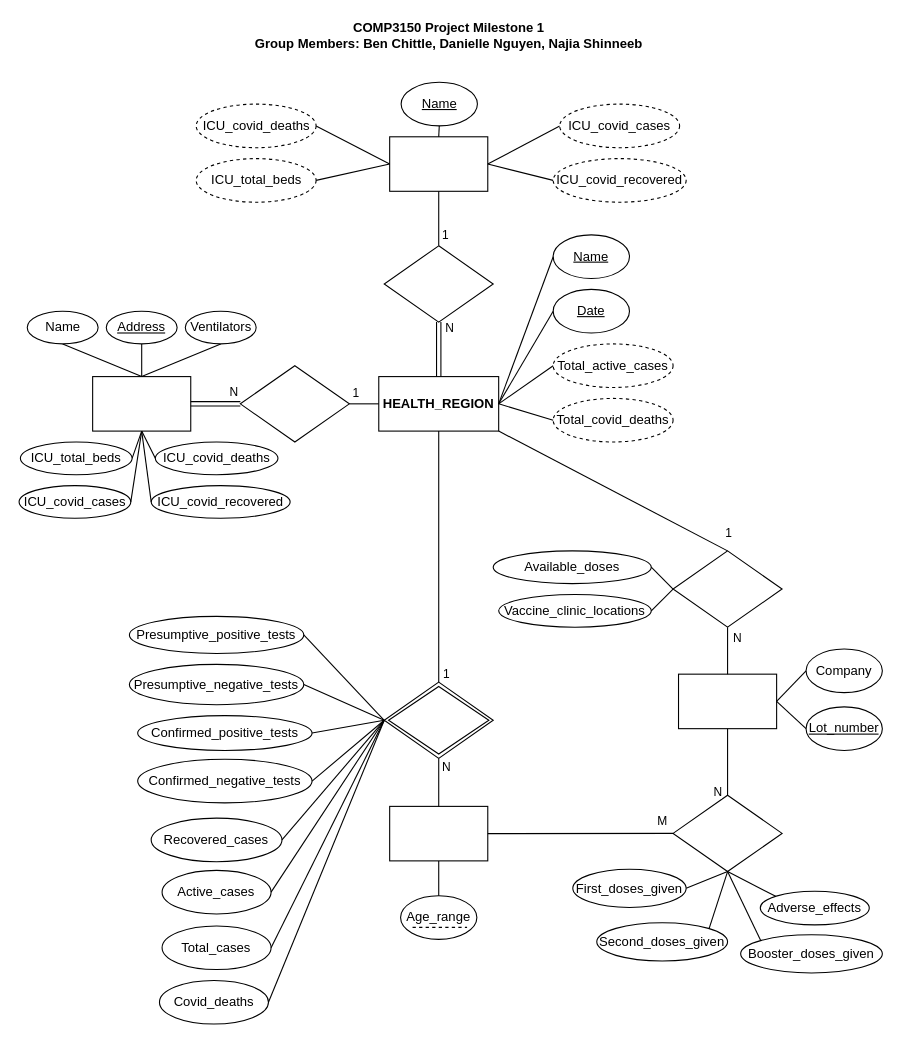
This 901x1043 diagram has some shape labels left out. The shapes that lost their labels are listed below. From the top down, each one's centre as x and y in pixels, then its label:
the point at 438,163: PROVINCE
the point at 438,283: HAS_A
the point at 141,403: HOSPITAL
the point at 294,403: REPORTS_TO
the point at 727,588: DISTRIBUTES
the point at 438,719: CLASSIFIES
the point at 727,701: VACCINE
the point at 438,833: AGE_GROUP
the point at 727,833: VACCINATES
